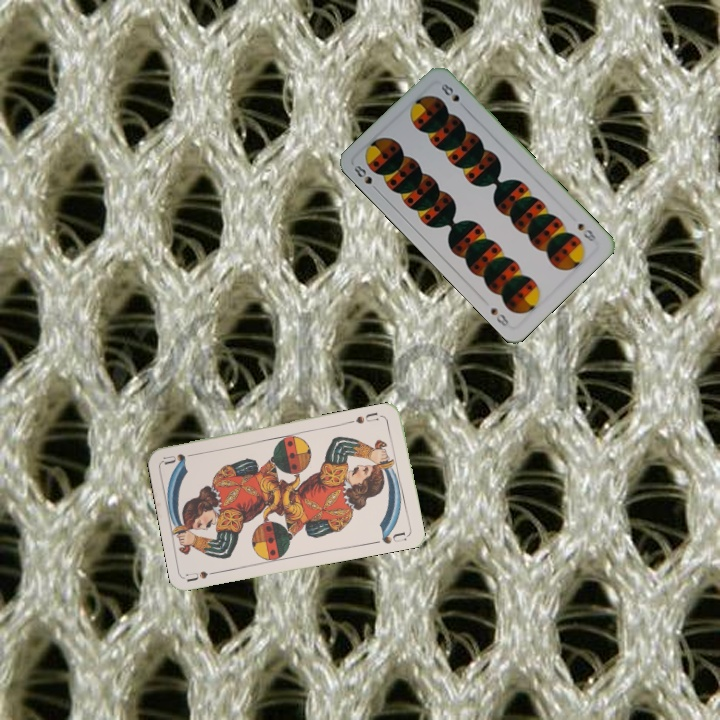S8: (350, 161, 382, 195), (574, 219, 601, 244)
SU: (183, 566, 224, 584), (346, 408, 381, 426)
